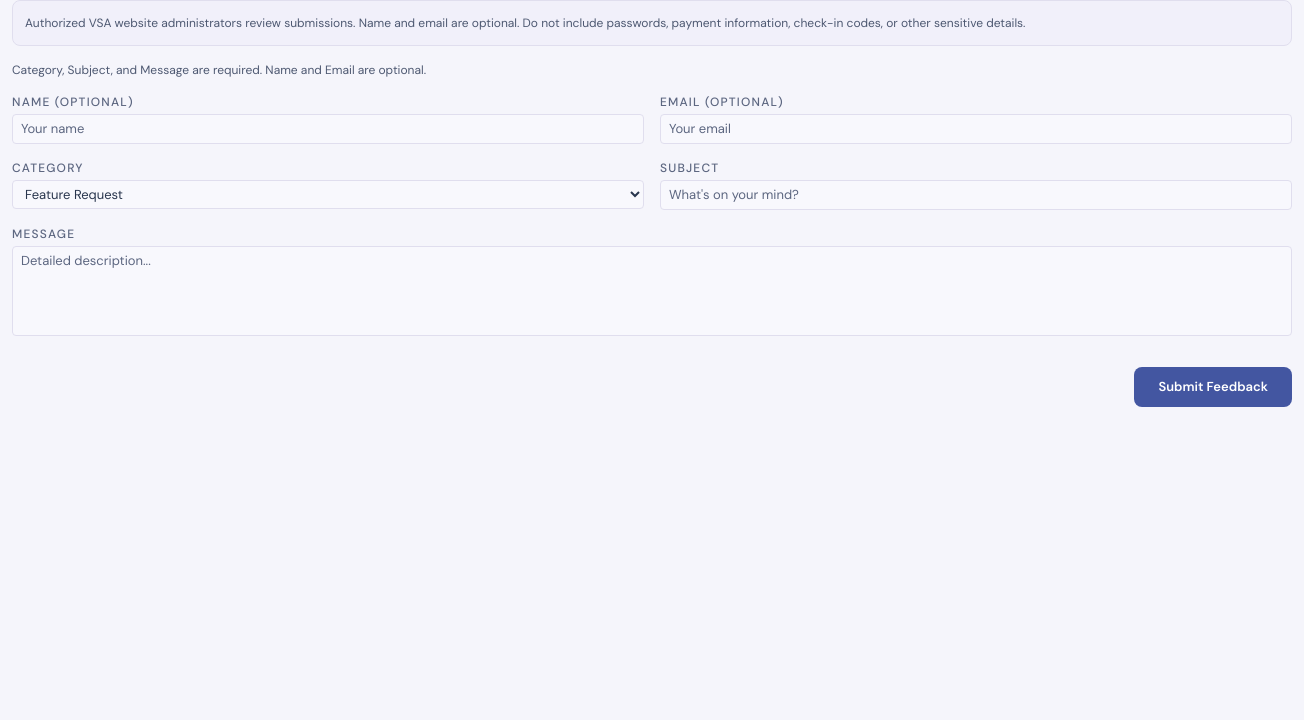
Test: announces required fields once and focuses the first invalid field on submit
The width and height of the screenshot is (1304, 720).
Expected: the text "Category, Subject, and Message are required. Name and Email are optional." is shown, [12,62,426,78]
Click the button "Submit Feedback": (1213, 387) [1134,367,1292,406]
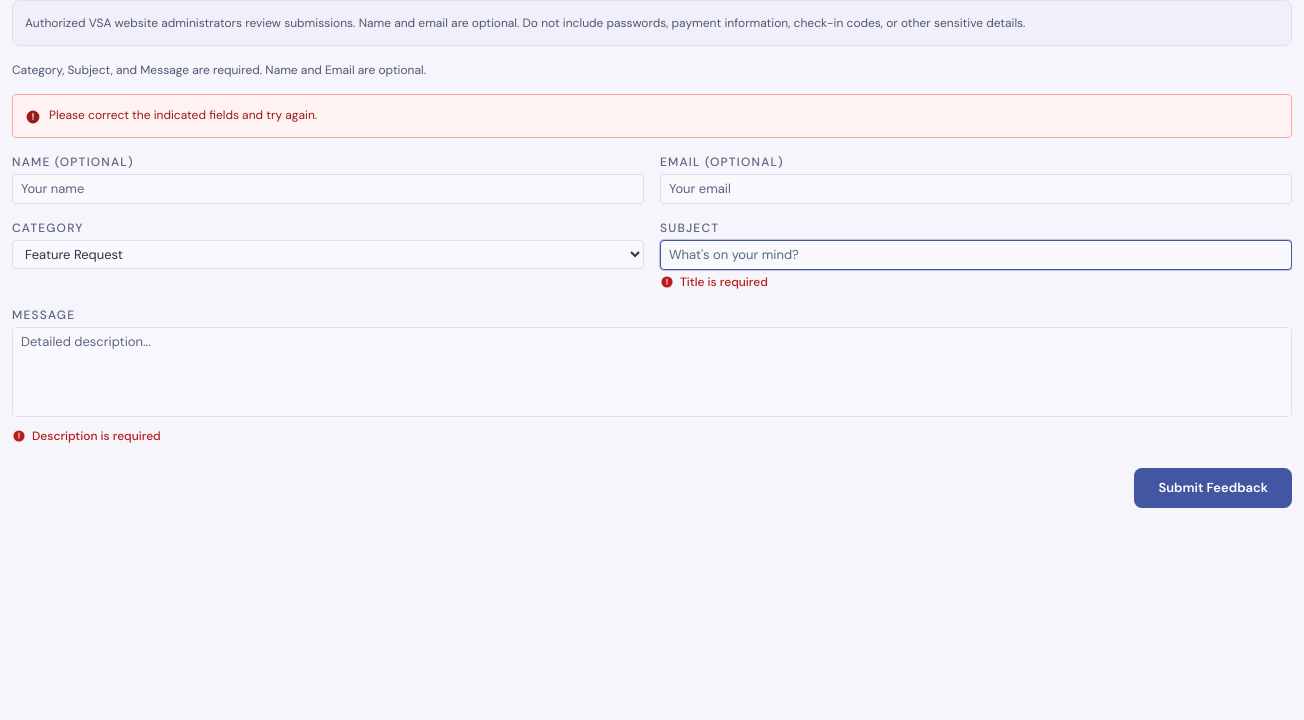
Expected: the message reads "Please correct the indicated fields and try again.", [49,107,317,123]
